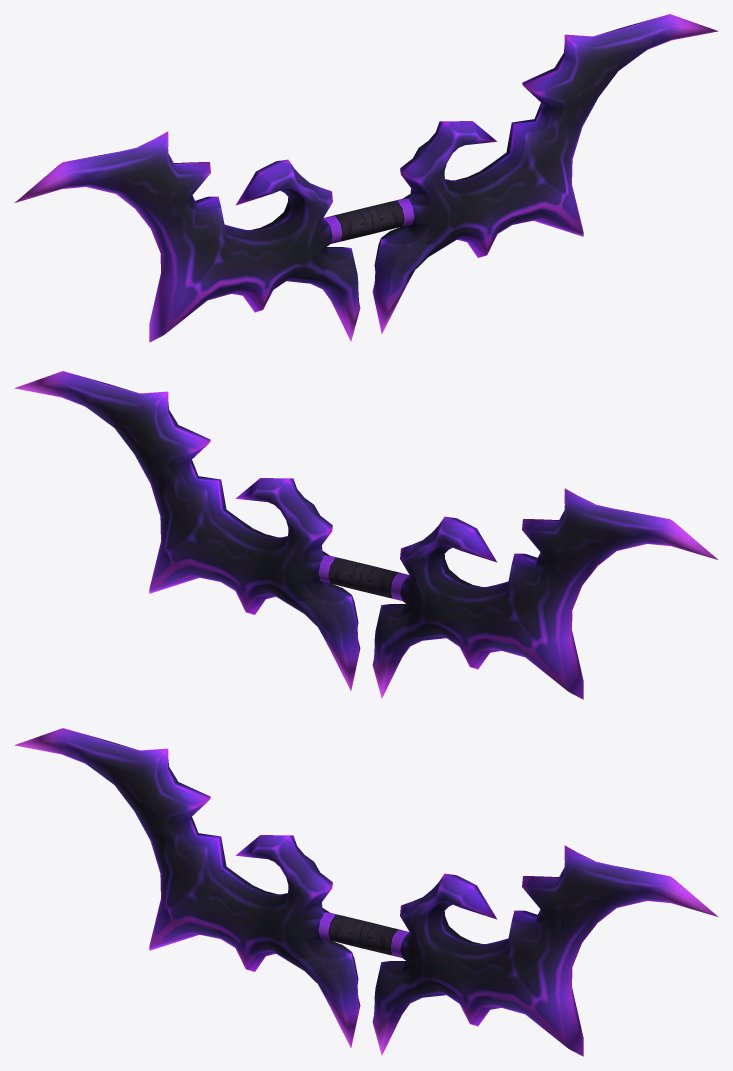
File: item_weabowmgm2501-et01.glb
3 views of the same model, one above another, from view 1: azimuth 30°, elevation 25°; view 2: azimuth 150°, elevation 25°; view 3: azimuth 330°, elevation 25° (orthographic).
Parts seen in each view (by area): view 1: FlyffMesh; view 2: FlyffMesh; view 3: FlyffMesh.
Boxes of the visible parts, x1,y1,x2,y2 form: FlyffMesh: (15,14,718,342); FlyffMesh: (14,371,717,699); FlyffMesh: (14,728,717,1056).
Bounding box in the file's own units: 1.72 × 0.5959 × 0.1294.
1 material, 1 textured.
